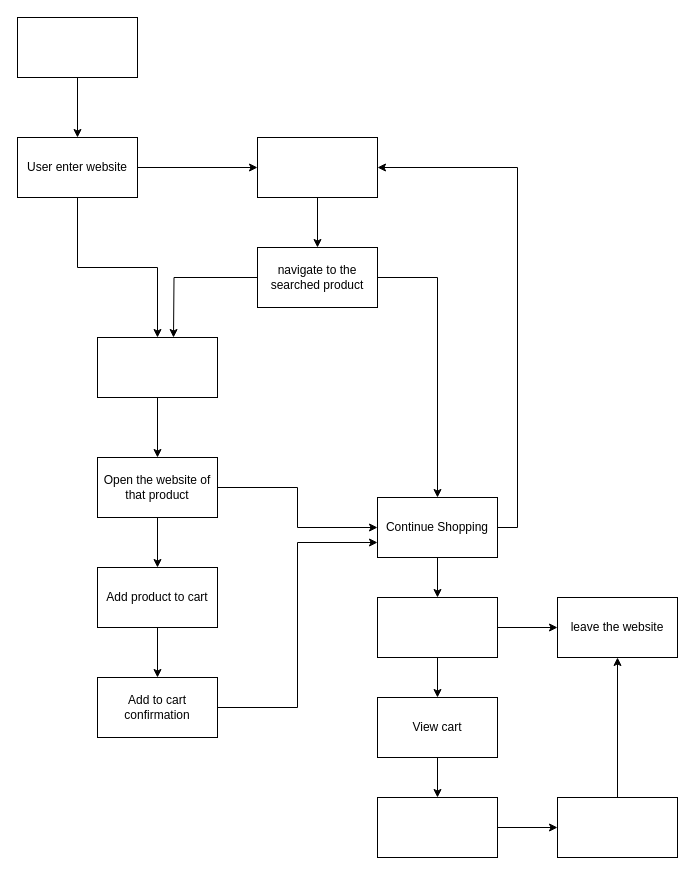
Image size: 695x875. Some labels were removed from this diagram. The box of each missing label's shape, as (x1, y1, x2, y2) in pixels:
checkout: (376, 596, 498, 658)
Choose a product: (96, 336, 218, 398)
Order confirmation and receive an email: (556, 796, 678, 858)
Start: (16, 16, 138, 78)
View payment: (376, 796, 498, 858)
